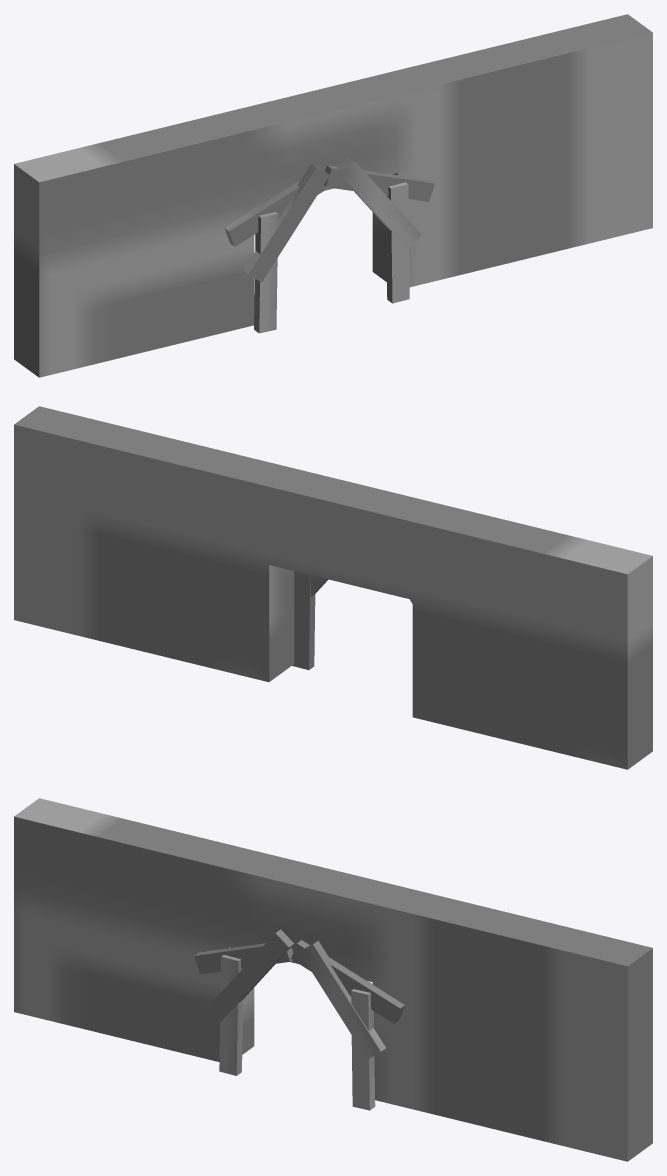
Rendered from wall_CaveEntrance.fbx.
3 renders of one model, top to bottom at view 1: azimuth 30°, elevation 25°; view 2: azimuth 150°, elevation 25°; view 3: azimuth 330°, elevation 25°, orthographic.
Parts seen in each view (by area): view 1: wall_CaveEntrance; view 2: wall_CaveEntrance; view 3: wall_CaveEntrance.
Part boxes in pixels (box(x1,y1,x2,y2)): wall_CaveEntrance: box(14, 14, 652, 377); wall_CaveEntrance: box(14, 406, 652, 769); wall_CaveEntrance: box(14, 798, 652, 1161).
Size of the model in its own units: 4471 by 1394 by 418.
